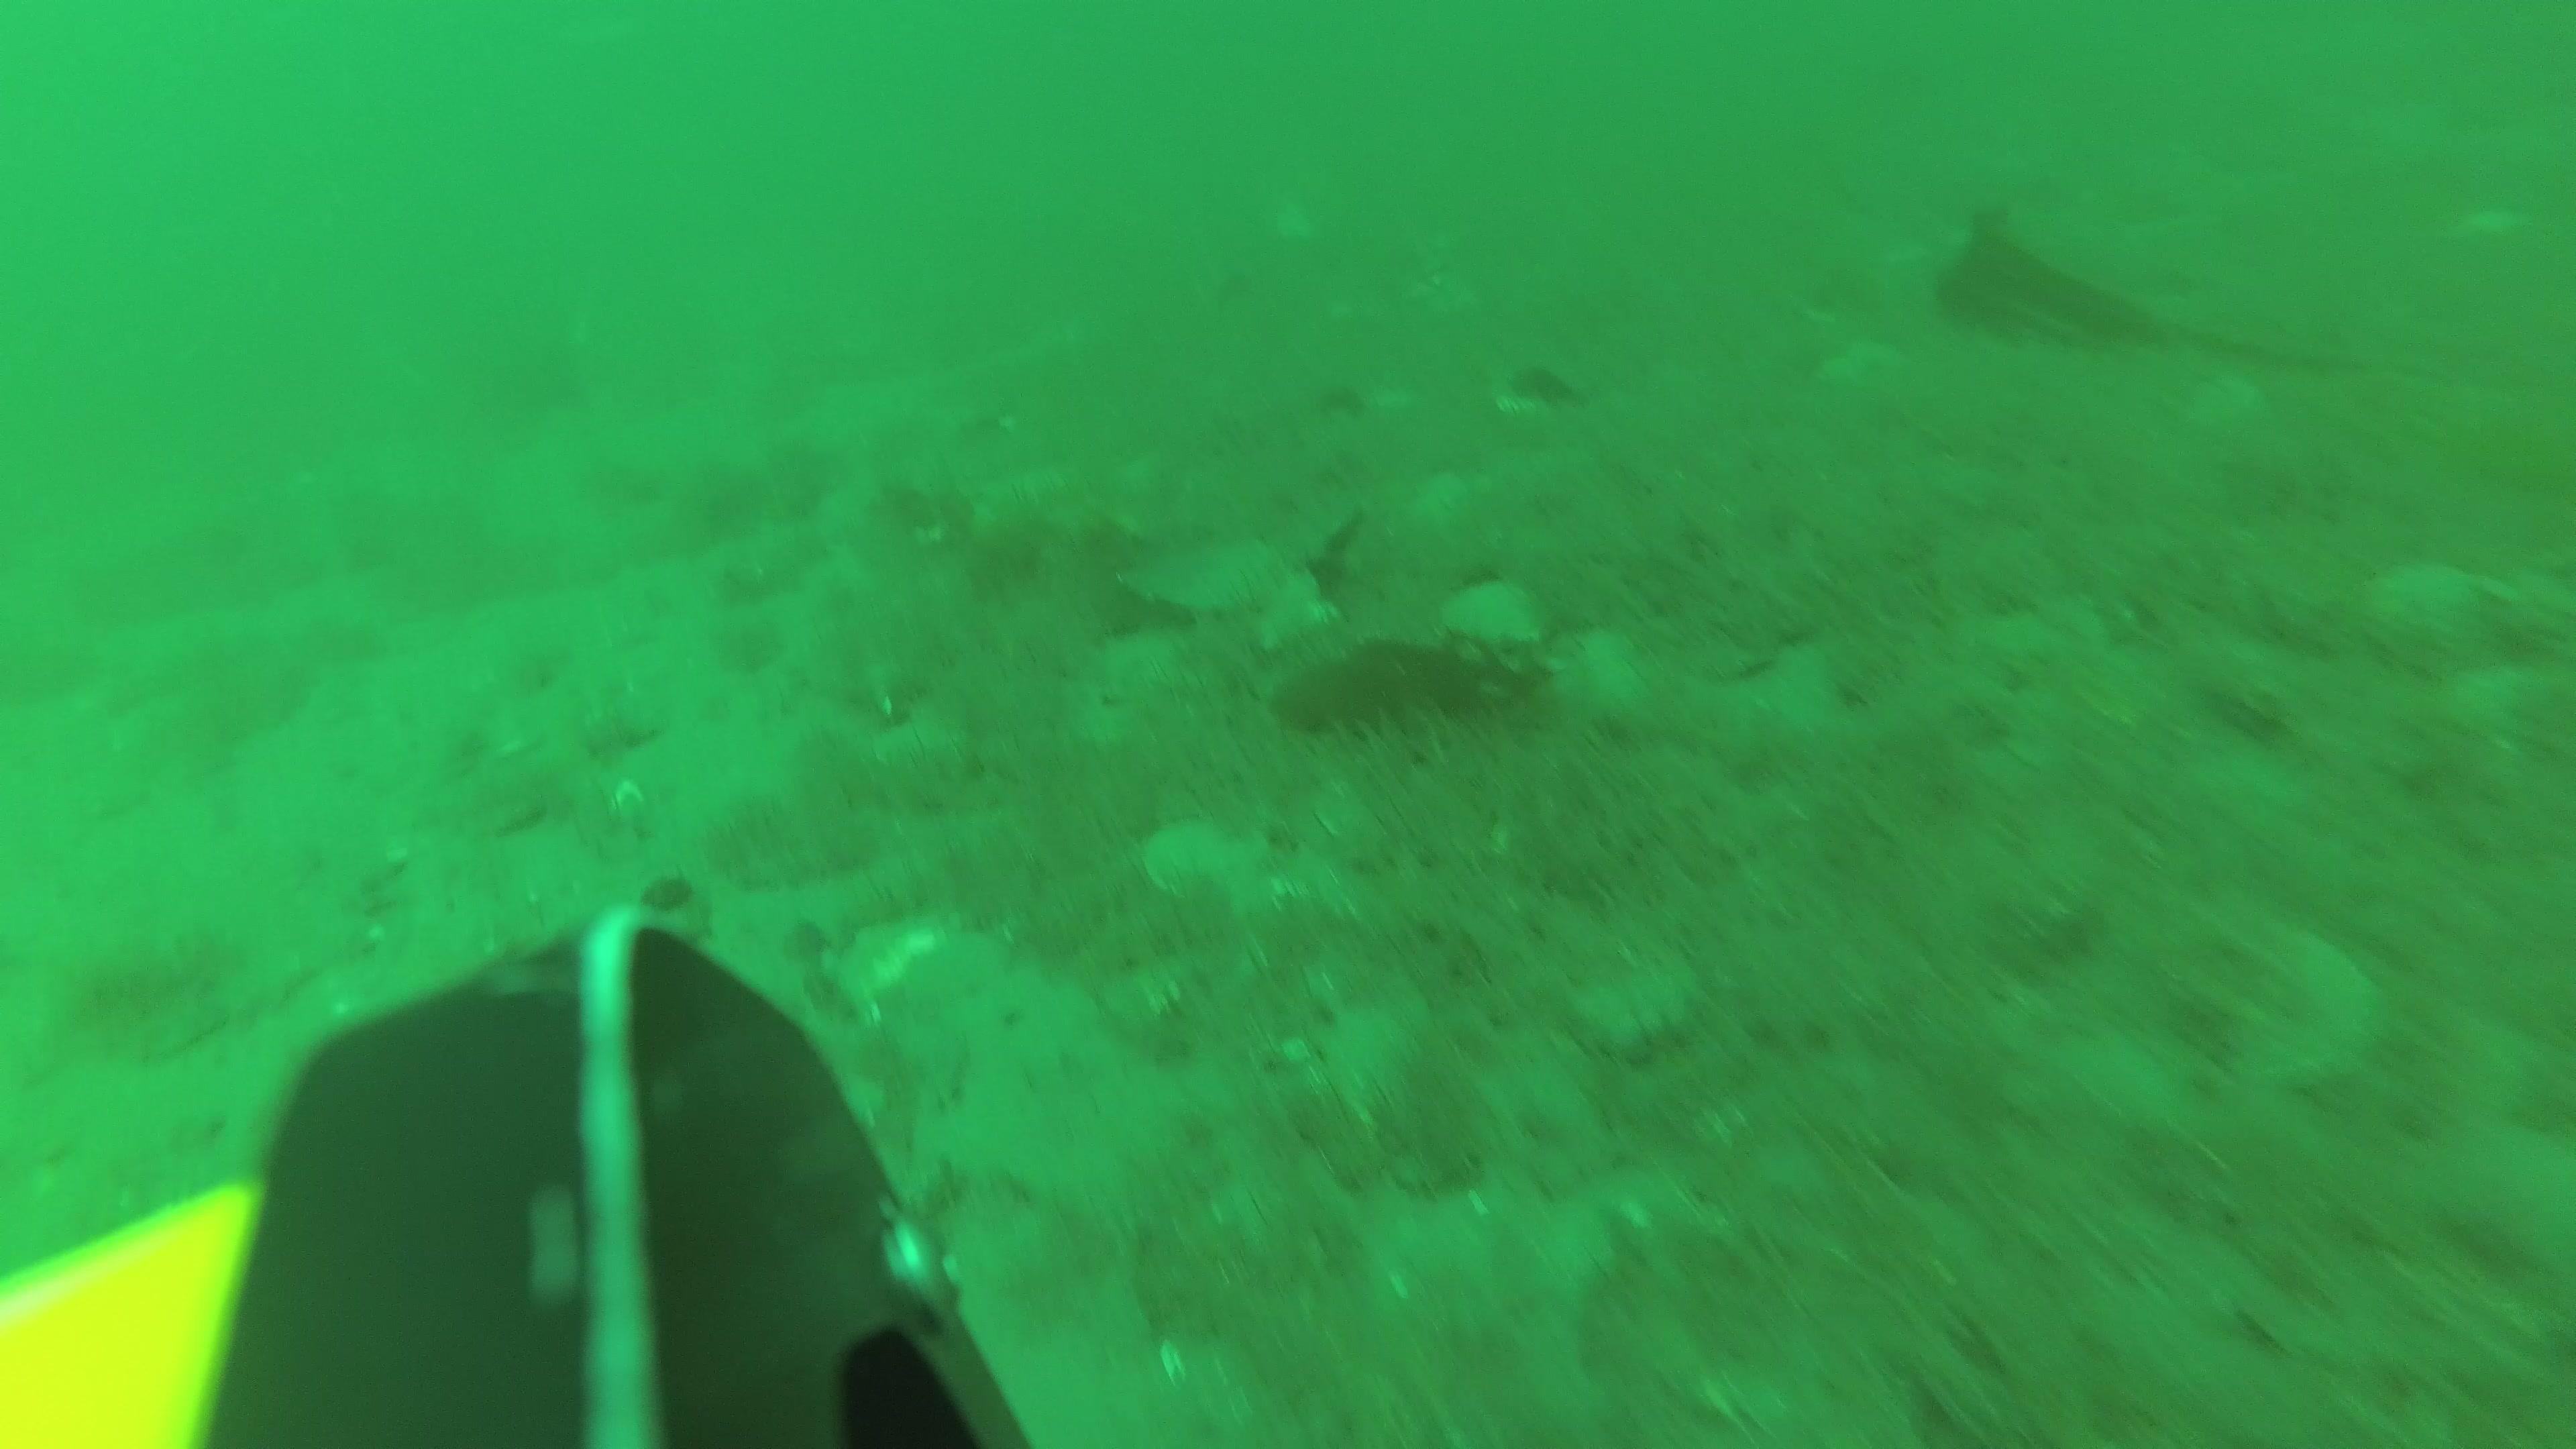scallop: (2197, 925, 2369, 1083), (826, 916, 987, 1033), (1146, 821, 1272, 913), (1240, 568, 1332, 651), (1454, 582, 1566, 649)
